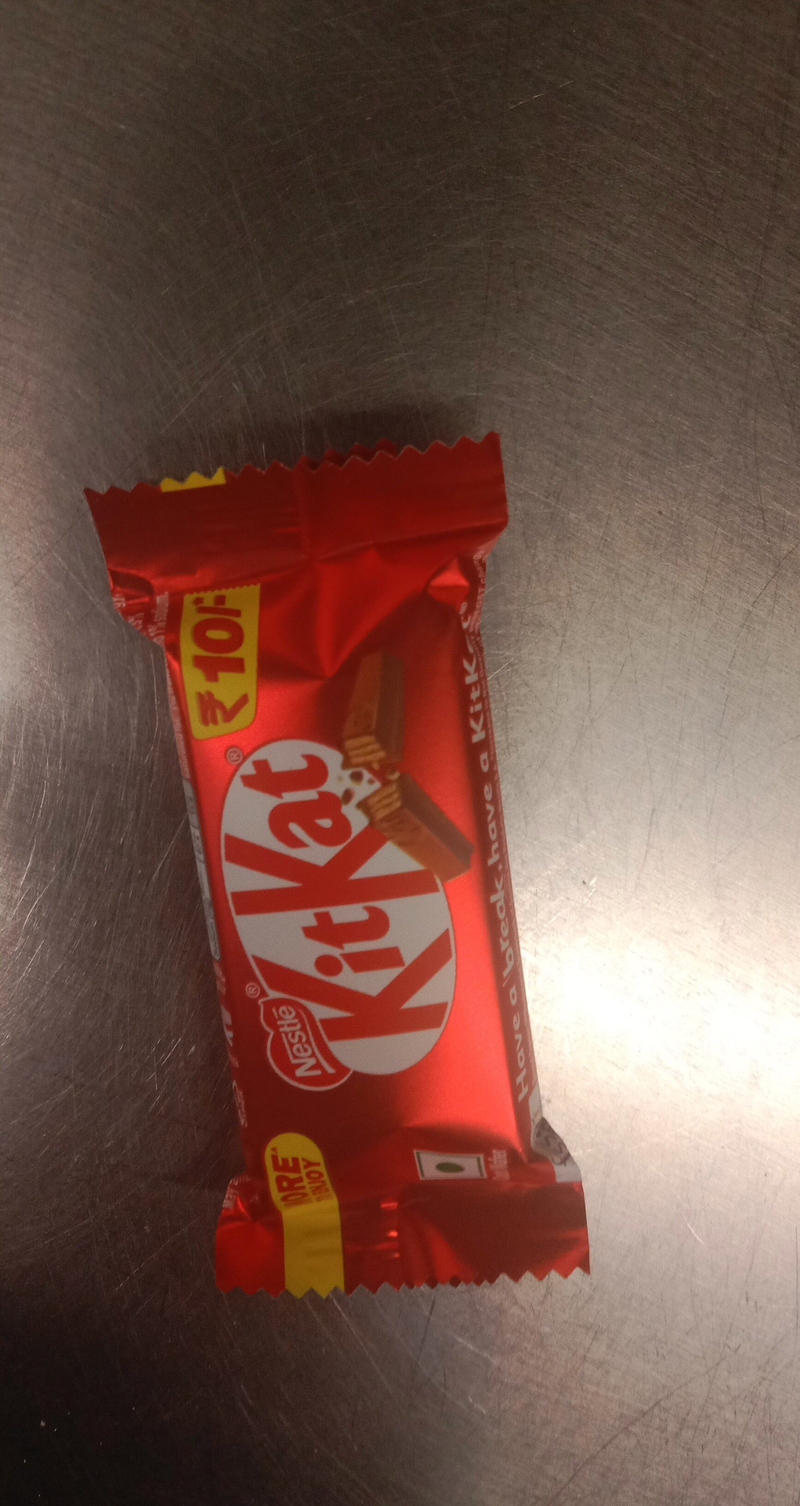KitKat: (72, 136, 728, 1370)
